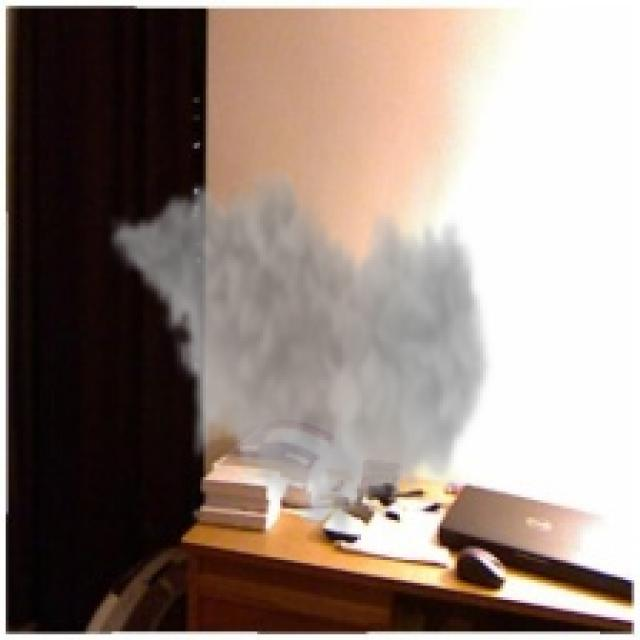smoke: (106, 157, 494, 546)
